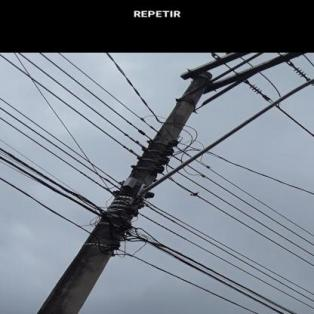Poste: (1, 65, 235, 314)
